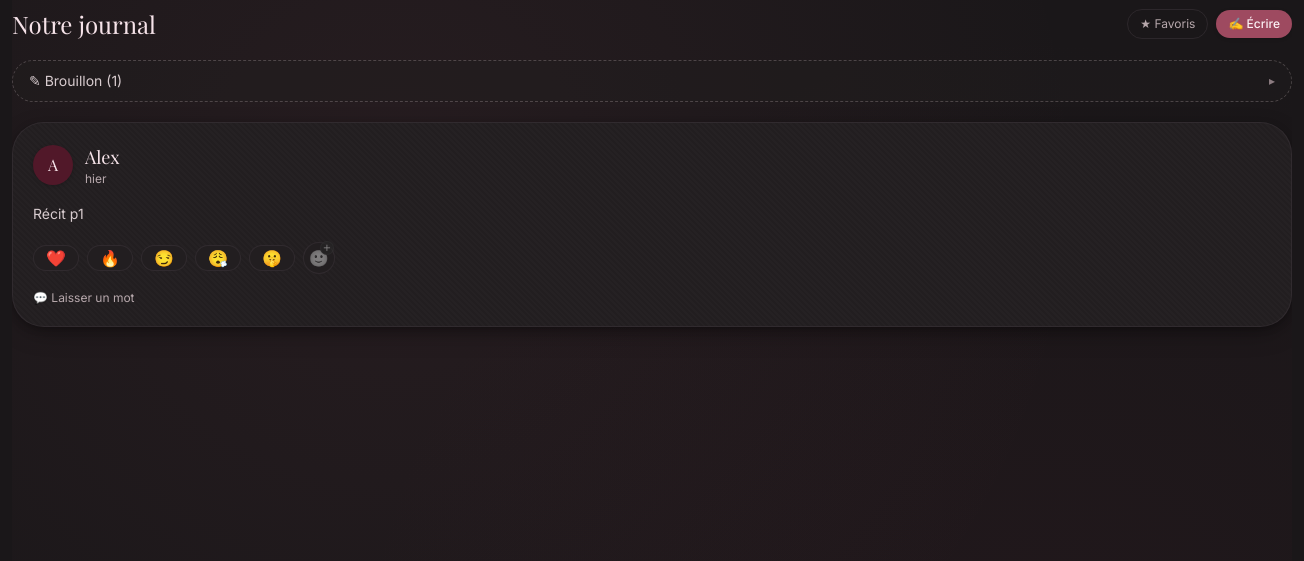
Test: BlogScreen › brouillons (#91) : repliés par défaut, dépliés au clic
This screenshot has width=1304, height=561.
Expected: the text "Récit p1" is shown, [33,205,84,222]
Expected: the text "Récit d1" is not shown
Click the button "✎ Brouillon (1) ▸".
click(83, 80)  # box [12,60,1292,102]
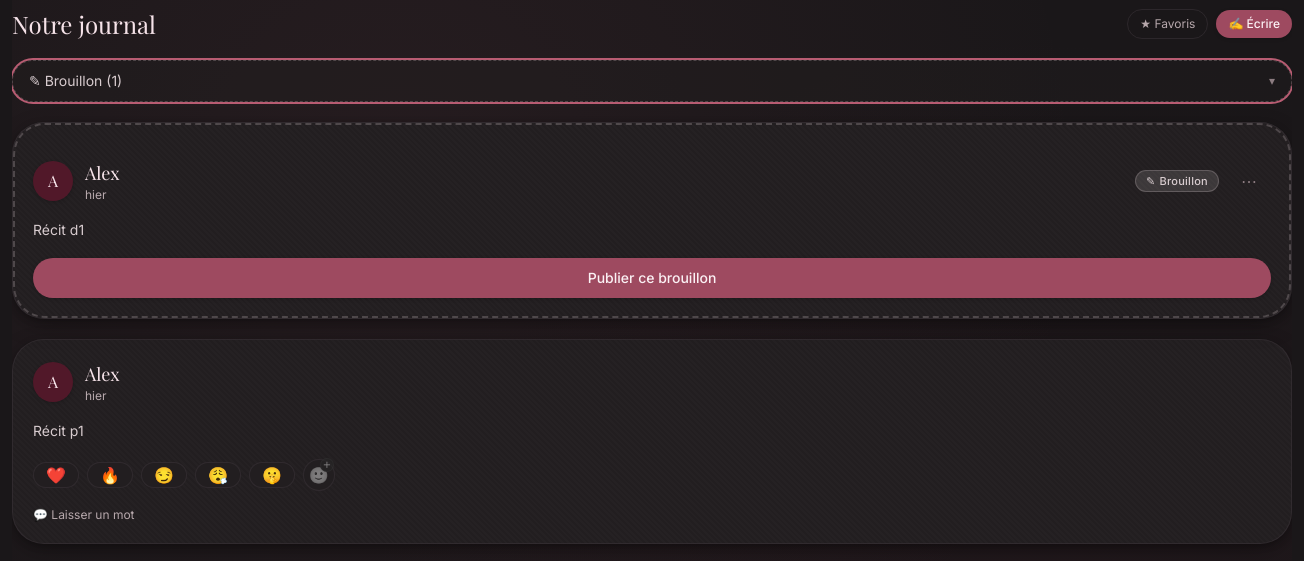
Now the button "✎ Brouillon (1) ▾" is expanded, box [12,60,1292,102]
Now the text "Récit d1" is shown, box [33,221,84,238]
